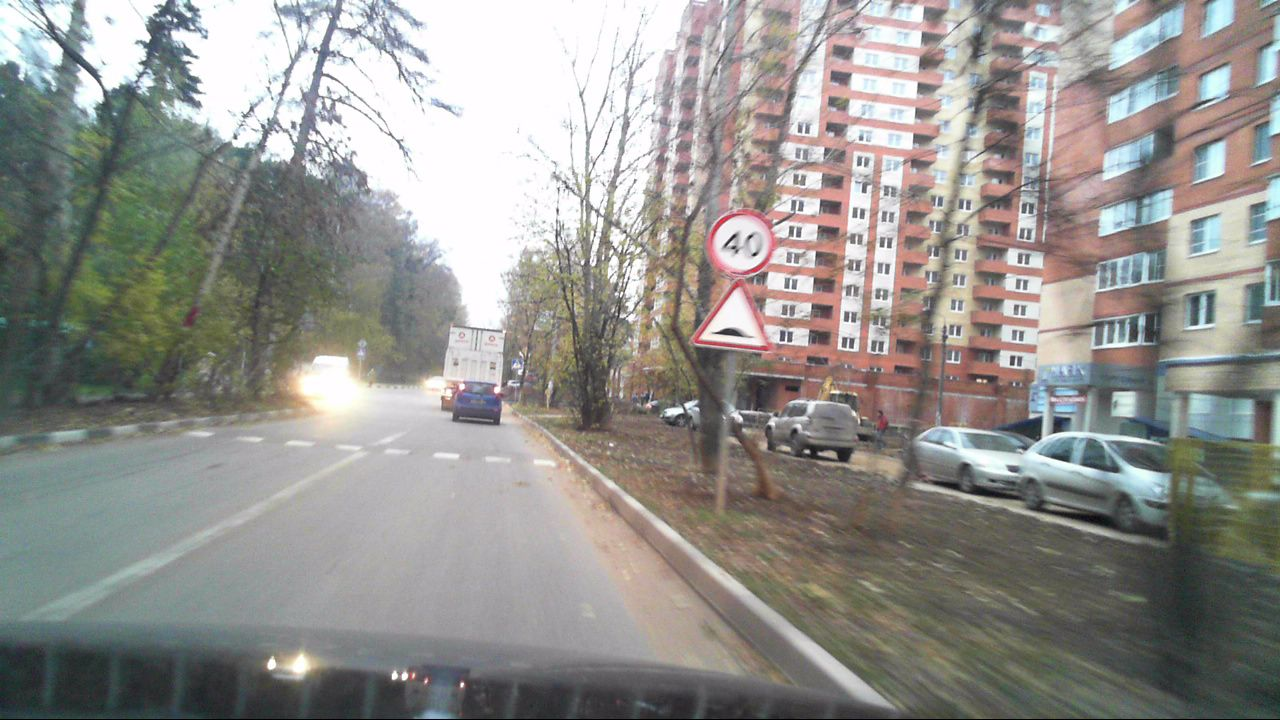speed_warning_40: (708, 209, 774, 279)
